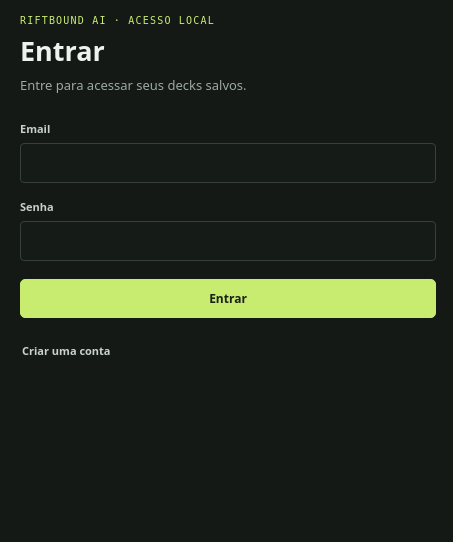
Scenario: AuthPanel › shows the same accessible fields after switching between modes
Click the button "Criar uma conta" at [66, 350], box [20,336,112,365]
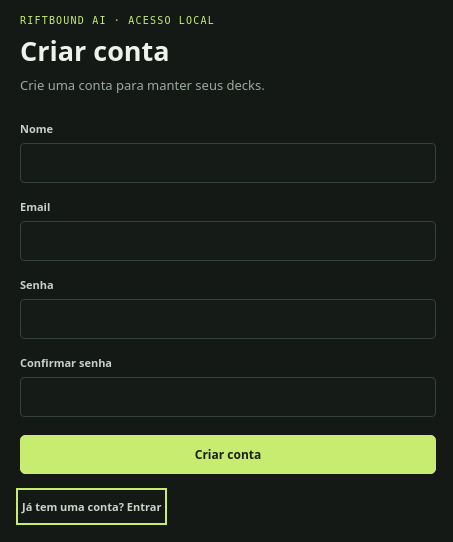
Expected: the field labelled "Nome" is shown, [20,143,436,183]
Now the password field labelled "Confirmar senha" is shown, box [20,377,436,417]
Click the button "Já tem uma conta? Entrar" at [92, 506], box [20,492,163,521]
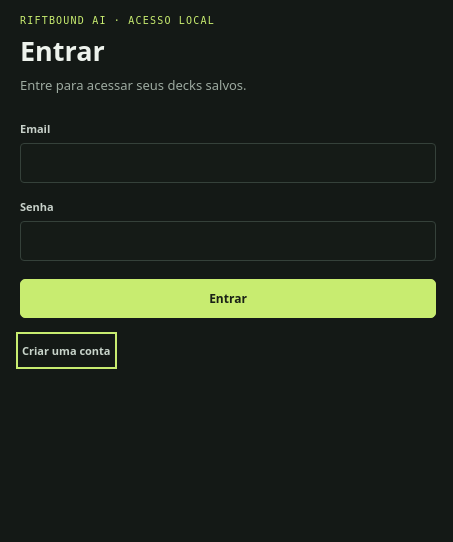
Expected: the field labelled "Email" is shown, [20,143,436,183]
Now the label labelled "Nome" is gone
